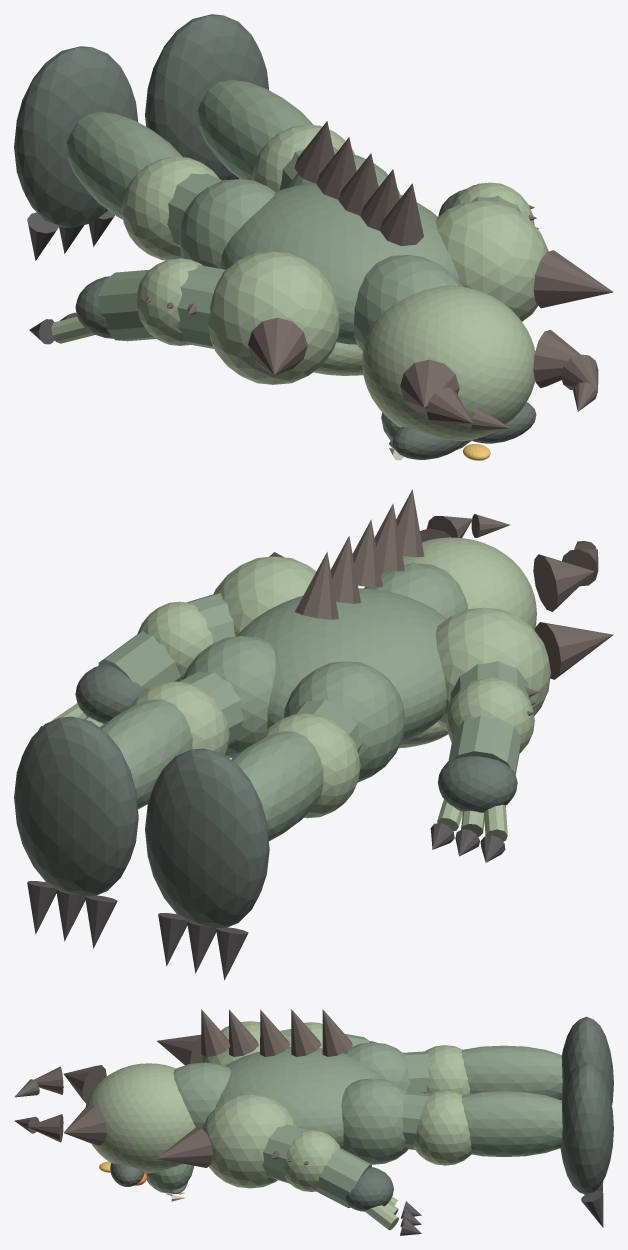
File: monstro_fantasia.glb
3 renders of one model, top to bottom at view 1: azimuth 30°, elevation 25°; view 2: azimuth 150°, elevation 25°; view 3: azimuth 270°, elevation 25°, orthographic. The views are drawn at different scales.
Parts seen in each view (by area): view 1: Cabeca, Pe_base_E, Torso, Ombro_E, Pe_base_D, Ombro_D, Canela_E, Canela_D, Quadril_E, Joelho_E, Pescoco, Cotovelo_E (+22 smaller); view 2: Pe_base_E, Pe_base_D, Torso, Ombro_E, Quadril_E, Canela_E, Cabeca, Quadril_D, Canela_D, Ombro_D, Joelho_E, Mao_E (+27 smaller); view 3: Cabeca, Torso, Canela_D, Ombro_D, Pe_base_D, Quadril_D, Canela_E, Joelho_D, Pe_base_E, Pescoco, Cotovelo_D, Antebraco_D (+22 smaller).
Boxes of the visible parts, bbox=[...] form: Cabeca: bbox=[362, 285, 535, 441]; Pe_base_E: bbox=[14, 46, 138, 227]; Torso: bbox=[220, 183, 459, 344]; Ombro_E: bbox=[208, 251, 339, 384]; Pe_base_D: bbox=[145, 14, 268, 180]; Ombro_D: bbox=[435, 200, 548, 321]; Canela_E: bbox=[66, 111, 182, 219]; Canela_D: bbox=[197, 79, 313, 180]; Quadril_E: bbox=[179, 179, 275, 268]; Joelho_E: bbox=[121, 156, 219, 260]; Pescoco: bbox=[354, 255, 463, 351]; Cotovelo_E: bbox=[136, 258, 202, 345]; Pe_base_E: bbox=[145, 748, 269, 929]; Pe_base_D: bbox=[14, 716, 138, 897]; Torso: bbox=[236, 588, 446, 742]; Ombro_E: bbox=[435, 607, 550, 730]; Quadril_E: bbox=[283, 661, 405, 782]; Canela_E: bbox=[231, 731, 323, 841]; Cabeca: bbox=[380, 537, 536, 629]; Quadril_D: bbox=[183, 636, 275, 758]; Canela_D: bbox=[100, 699, 192, 809]; Ombro_D: bbox=[213, 556, 316, 636]; Joelho_E: bbox=[259, 713, 360, 818]; Mao_E: bbox=[438, 756, 517, 812]; Cabeca: bbox=[85, 1063, 195, 1173]; Torso: bbox=[216, 1047, 384, 1148]; Canela_D: bbox=[461, 1091, 562, 1156]; Ombro_D: bbox=[202, 1094, 296, 1188]; Pe_base_D: bbox=[560, 1062, 613, 1194]; Quadril_D: bbox=[341, 1078, 407, 1164]; Canela_E: bbox=[461, 1045, 562, 1099]; Joelho_D: bbox=[414, 1090, 471, 1165]; Pe_base_E: bbox=[561, 1016, 613, 1104]; Pescoco: bbox=[173, 1062, 230, 1128]; Cotovelo_D: bbox=[283, 1130, 340, 1191]; Antebraco_D: bbox=[315, 1148, 371, 1207].
Bounding box in the file's own units: 3.06 × 1.64 × 4.8.
